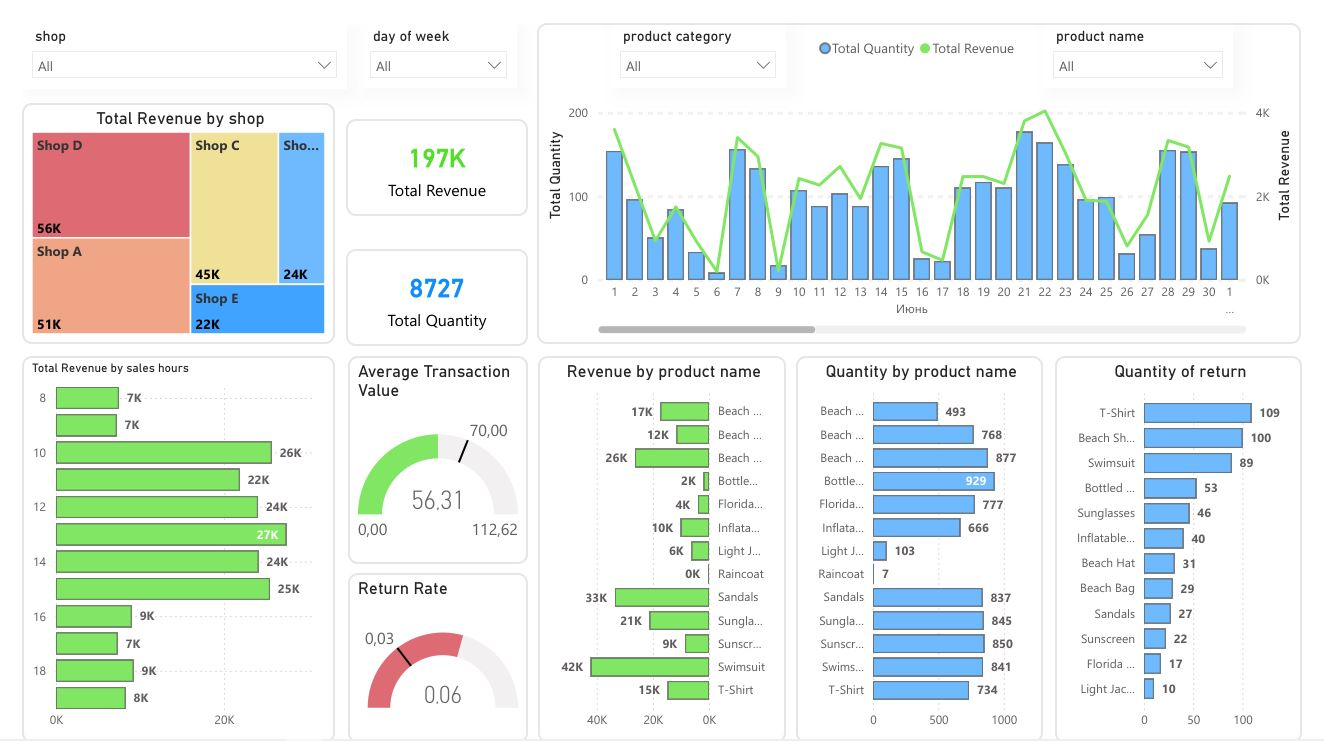

Layout of this report page (visuals, bound fields, positions):
{"tool":"powerbi","page":{"name":"Страница 1","canvas":[1280,720],"ordinal":0},"visuals":[{"type":"lineStackedColumnComboChart","title":"Total Quantity and Total Revenue","fields":{"Category":["sales.sale_date.Variation.Иерархия дат.Месяц","sales.sale_date.Variation.Иерархия дат.День"],"Y":["sales.Total Quantity"],"Y2":["sales.Total Revenue"]},"box":[515,0,763.8,321.2],"z":0},{"type":"card","fields":{"Values":["sales.Total Quantity"]},"box":[324.3,225,182.9,96.4],"z":1000},{"type":"card","fields":{"Values":["sales.Total Revenue"]},"box":[324.3,80,182.9,95.7],"z":2000},{"type":"treemap","fields":{"Group":["sales.shop"],"Values":["sales.Total Revenue"]},"box":[0,80,312.5,241.2],"z":3000},{"type":"barChart","title":"Quantity by product name","fields":{"Category":["sales.product name"],"Y":["sales.Total Quantity"]},"box":[515,333,382,387],"z":4000},{"type":"columnChart","title":"Revenue by product name","fields":{"Category":["sales.product category"],"Y":["sales.Total Revenue"]},"box":[164,507,343,213],"z":5000},{"type":"barChart","title":"Total Revenue by sales hours","fields":{"Y":["sales.Total Revenue"],"Category":["sales.sale_hour"]},"box":[0,333,156,387],"z":6000},{"type":"slicer","fields":{"Values":["sales.shop"]},"box":[1,8,325,66],"z":7000},{"type":"slicer","fields":{"Values":["sales.day_of_week_name"]},"box":[337,8,157,65],"z":8000},{"type":"slicer","fields":{"Values":["sales.product category"]},"box":[588,8,176,65],"z":9000},{"type":"slicer","fields":{"Values":["sales.product name"]},"box":[1022,8,190,65],"z":10000},{"type":"gauge","fields":{"Y":["sales.Return Rate"]},"box":[323.6,332.9,181.4,166.4],"z":11000},{"type":"gauge","fields":{"Y":["sales.Average Transaction Value"]},"box":[164,333,149,166],"z":12000},{"type":"barChart","title":"Quantity of return","fields":{"Y":["Sum(sales.quantity)"],"Category":["sales.product name"]},"box":[906,333,374,387],"z":13000},{"type":"shape","title":"Clear filter","box":[324,184,180,34],"z":13001},{"type":"shape","box":[167.3,8.2,159.1,23.6],"z":13002}]}

Visuals, with their boxes in screenshot pixels (x1, y1, x2, y2), scaled from the page's 1280x720 canvas onto the 1324x741 screenshot:
"Total Quantity and Total Revenue" lineStackedColumnComboChart: 533:0:1323:331
card - sales.Total Quantity: 335:232:525:331
card - sales.Total Revenue: 335:82:525:181
treemap - sales.shop x sales.Total Revenue: 0:82:323:331
"Quantity by product name" barChart: 533:343:928:740
"Revenue by product name" columnChart: 170:522:524:740
"Total Revenue by sales hours" barChart: 0:343:161:740
slicer - sales.shop: 1:8:337:76
slicer - sales.day_of_week_name: 349:8:511:75
slicer - sales.product category: 608:8:790:75
slicer - sales.product name: 1057:8:1254:75
gauge - sales.Return Rate: 335:343:522:514
gauge - sales.Average Transaction Value: 170:343:324:514
"Quantity of return" barChart: 937:343:1323:740
"Clear filter" shape: 335:189:521:224
shape: 173:8:338:33
